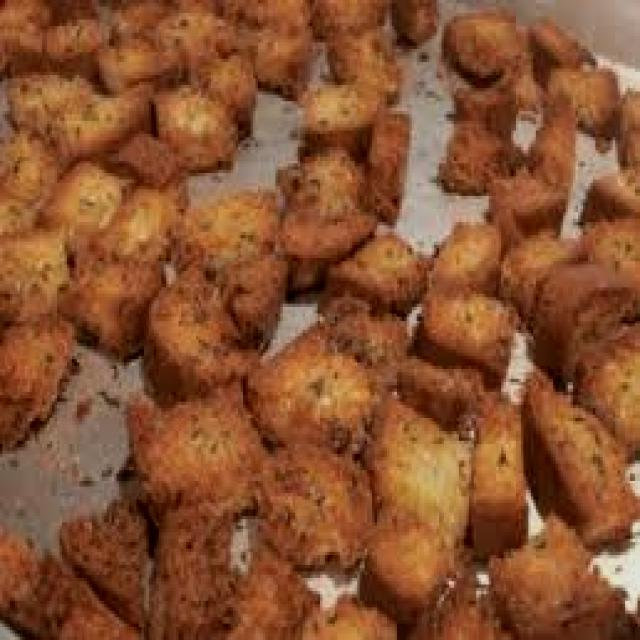organic: (146, 503, 312, 640), (520, 373, 639, 549), (244, 324, 383, 460), (125, 390, 265, 524), (250, 434, 378, 576), (365, 397, 474, 560), (493, 519, 628, 639), (3, 531, 145, 639), (141, 276, 253, 401), (530, 262, 638, 386), (276, 156, 377, 288), (488, 100, 577, 243), (58, 250, 164, 360), (0, 318, 78, 454), (416, 288, 518, 387), (174, 188, 282, 278), (23, 67, 127, 149), (38, 158, 130, 248), (327, 233, 426, 316), (574, 331, 640, 454), (151, 85, 240, 176), (92, 184, 184, 270), (0, 225, 75, 330), (229, 2, 314, 94), (393, 355, 487, 430), (217, 251, 288, 348), (1, 14, 103, 81), (499, 232, 575, 315), (299, 80, 379, 158), (441, 10, 526, 83), (430, 220, 503, 298), (152, 9, 231, 78), (440, 120, 512, 195), (364, 109, 410, 226), (545, 65, 618, 137), (326, 29, 400, 100), (196, 51, 260, 130), (96, 36, 180, 96), (0, 128, 60, 212), (578, 220, 640, 295), (528, 17, 593, 82), (452, 80, 522, 138), (580, 172, 640, 227), (310, 0, 385, 39)
